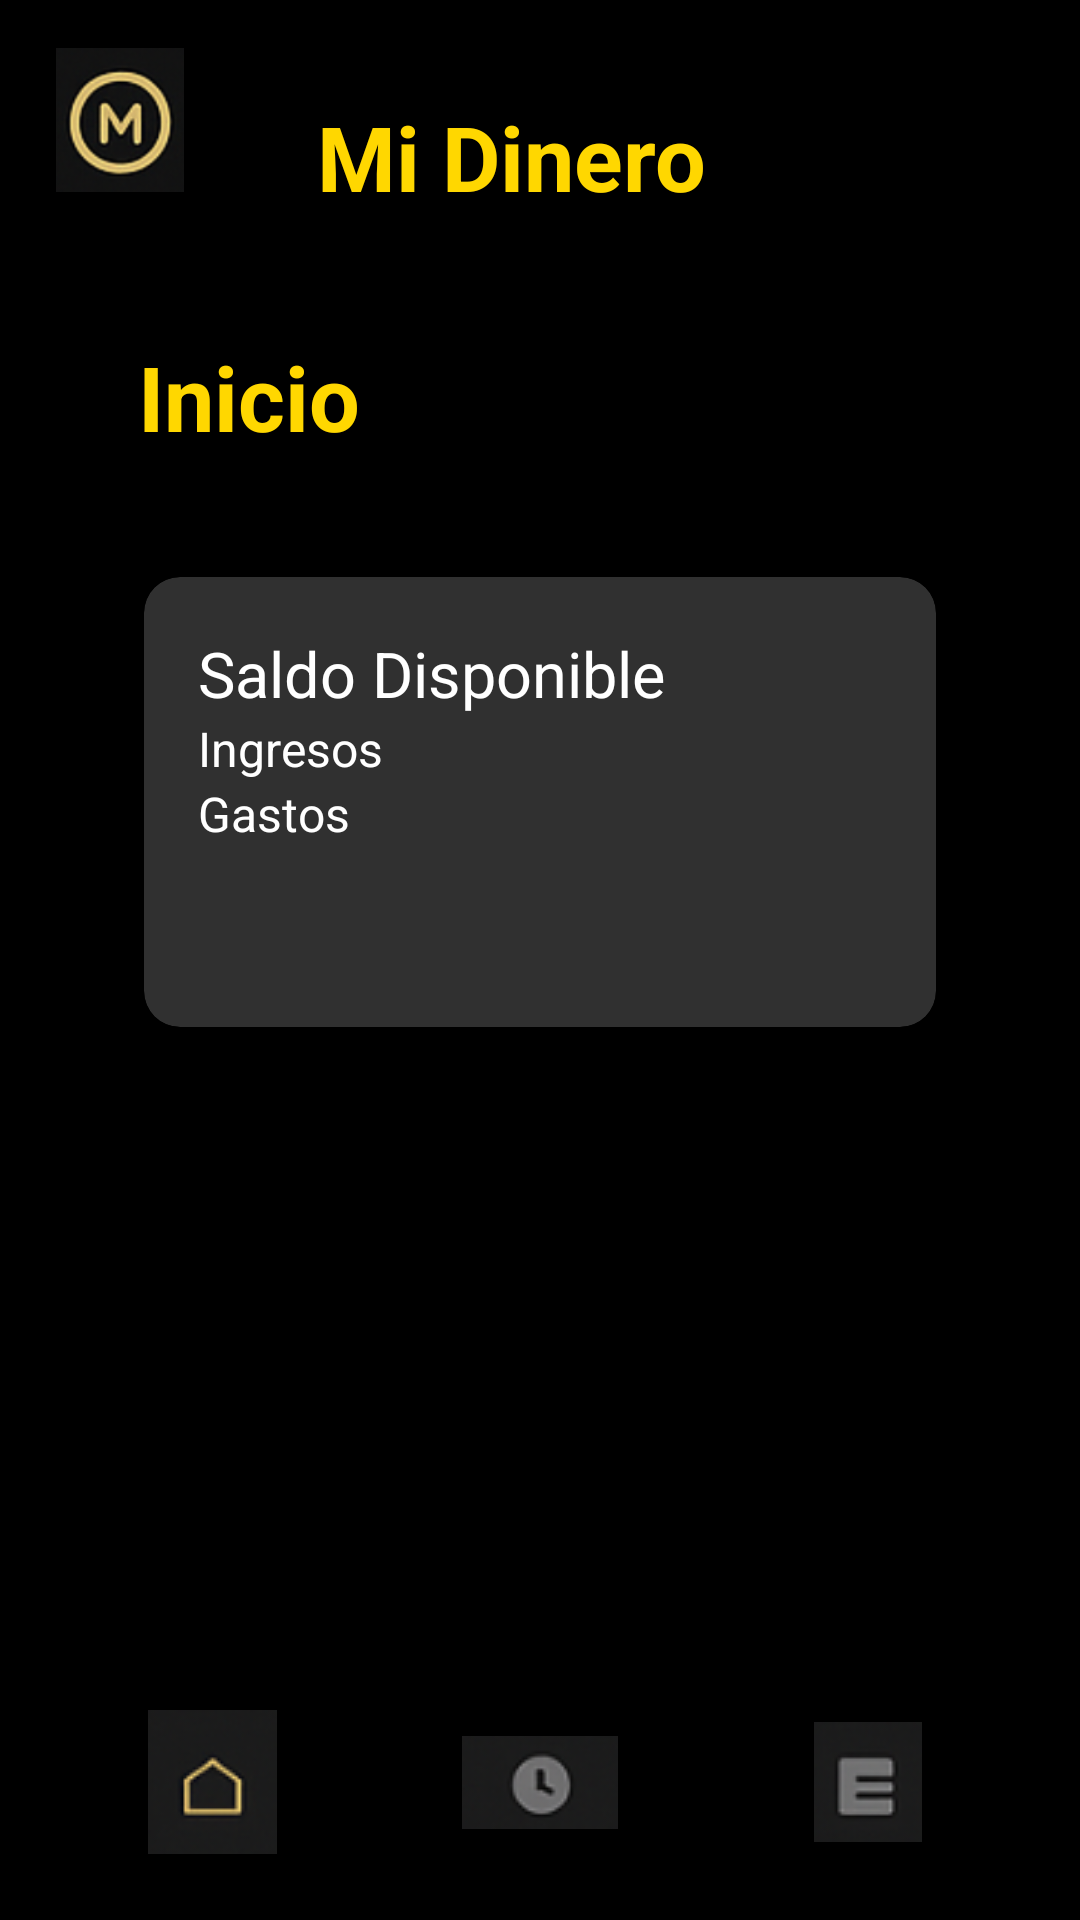

Screen size 1080*1920. Icon name, then its box in pixels as (x1, y1, x2, y2):
imagencasa: (148, 1710, 277, 1854)
menu: (814, 1722, 922, 1842)
relojimagen: (462, 1736, 618, 1829)
